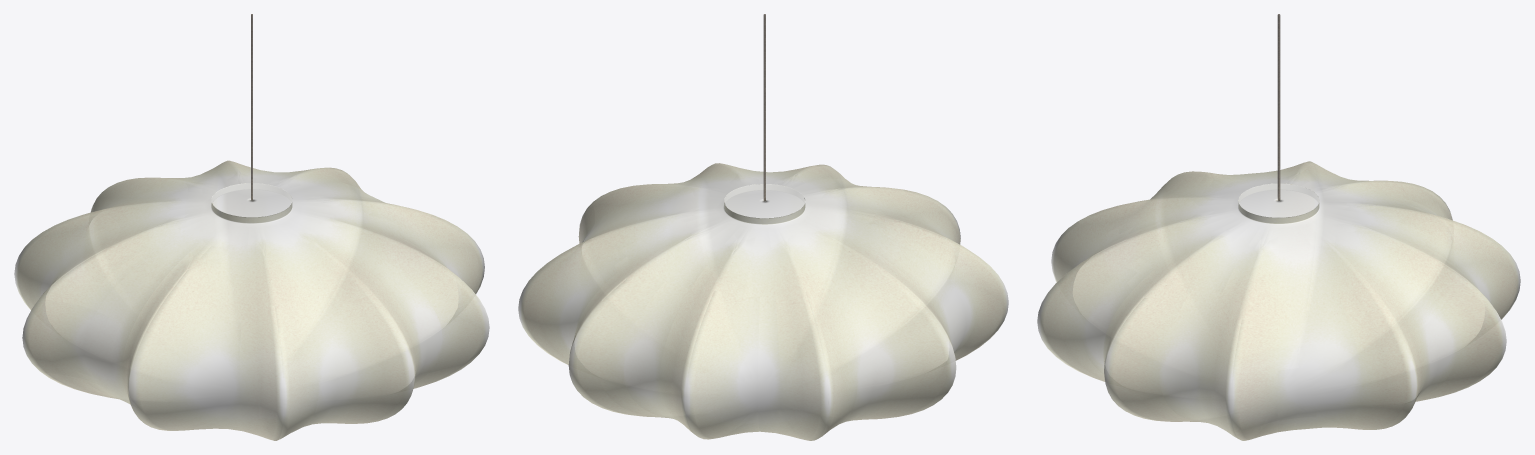
The model's file is Ceiling_lamp .glb.
3 renders of one model, left to right at view 1: azimuth 30°, elevation 25°; view 2: azimuth 150°, elevation 25°; view 3: azimuth 270°, elevation 25°, orthographic.
Visible parts, largest first — view 1: Ceilling_lamp; view 2: Ceilling_lamp; view 3: Ceilling_lamp.
Boxes of the visible parts, left/top/right/bottom form: Ceilling_lamp: left=14, top=14, right=489, bottom=440; Ceilling_lamp: left=518, top=14, right=1008, bottom=440; Ceilling_lamp: left=1037, top=14, right=1520, bottom=440.
Bounding box in the file's own units: 0.736 × 0.6378 × 0.7339.
1 material, 1 textured.
